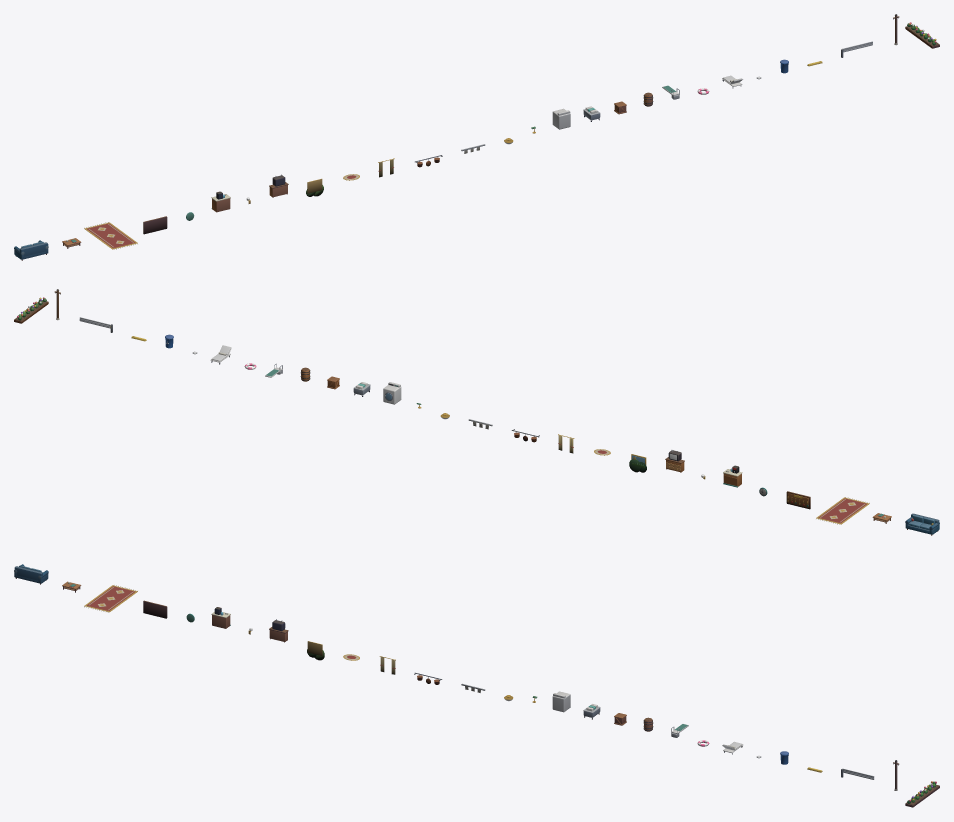
The model's file is motel_kit_batch4.fbx.
3 renders of one model, top to bottom at view 1: azimuth 30°, elevation 25°; view 2: azimuth 150°, elevation 25°; view 3: azimuth 330°, elevation 25°, orthographic.
Parts seen in each view (by area): view 1: SM_Prop_LobbyRug; view 2: SM_Prop_LobbyRug, SM_Prop_Couch; view 3: SM_Prop_LobbyRug.
Part boxes in pixels (bbox=[...]): SM_Prop_LobbyRug: bbox=[84, 222, 137, 249]; SM_Prop_LobbyRug: bbox=[816, 497, 869, 524]; SM_Prop_Couch: bbox=[905, 513, 939, 535]; SM_Prop_LobbyRug: bbox=[84, 585, 137, 612].
Bounding box in the file's own units: 233 × 10.15 × 13.49.
